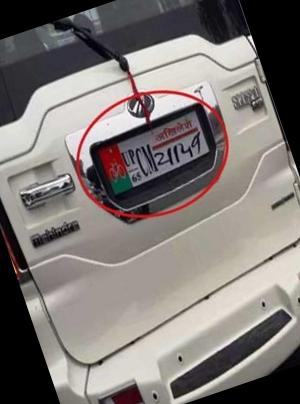plate: (88, 101, 225, 206)
